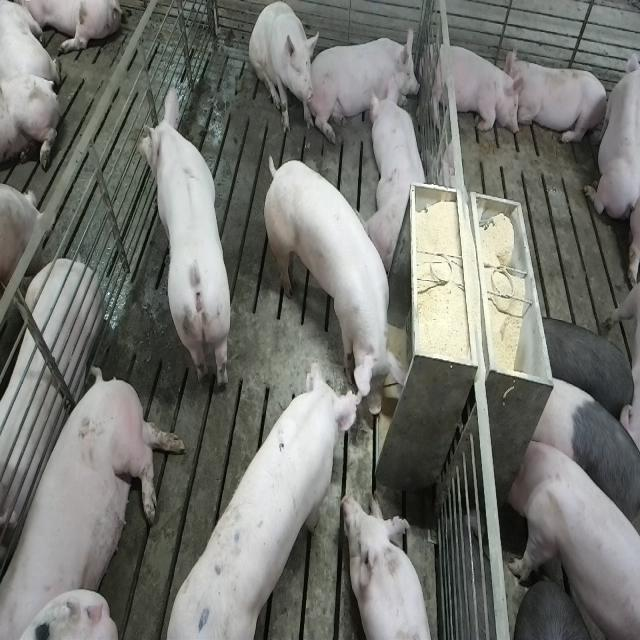Lateral_lying: (3, 367, 186, 640), (0, 258, 103, 562)
Sitting: (249, 3, 318, 137)
Standing: (161, 356, 365, 635), (262, 159, 405, 424), (135, 82, 234, 398), (504, 436, 638, 640), (530, 375, 638, 536), (539, 313, 632, 421)
Sternal_lying: (346, 491, 437, 640), (313, 26, 422, 139), (370, 86, 430, 273), (509, 52, 610, 150), (425, 38, 523, 139), (584, 40, 637, 224)
